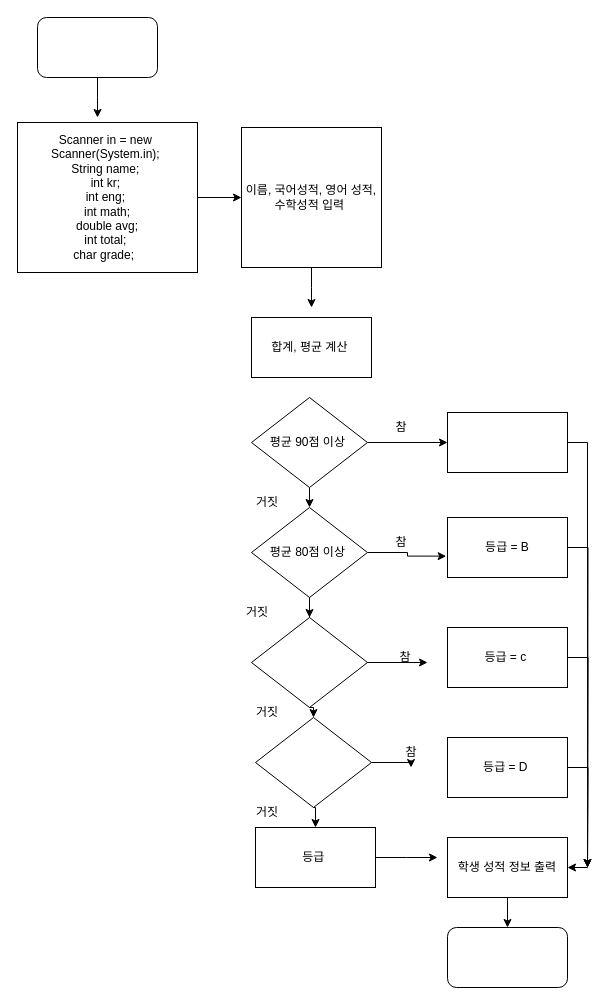
The diagram is 614 pixels wide and 1005 high, and some of its shapes have lost their labels. Here are the shapes that lost their labels. From the top down, the box of each, then its label:
(36, 16, 158, 78): 성적 산출 프로그램 시작
(446, 412, 568, 472): 등급 = A
(250, 616, 368, 708): 평균 70점 이상
(254, 716, 372, 808): 평균 60점 이상
(446, 926, 568, 988): 프로그램 종료
